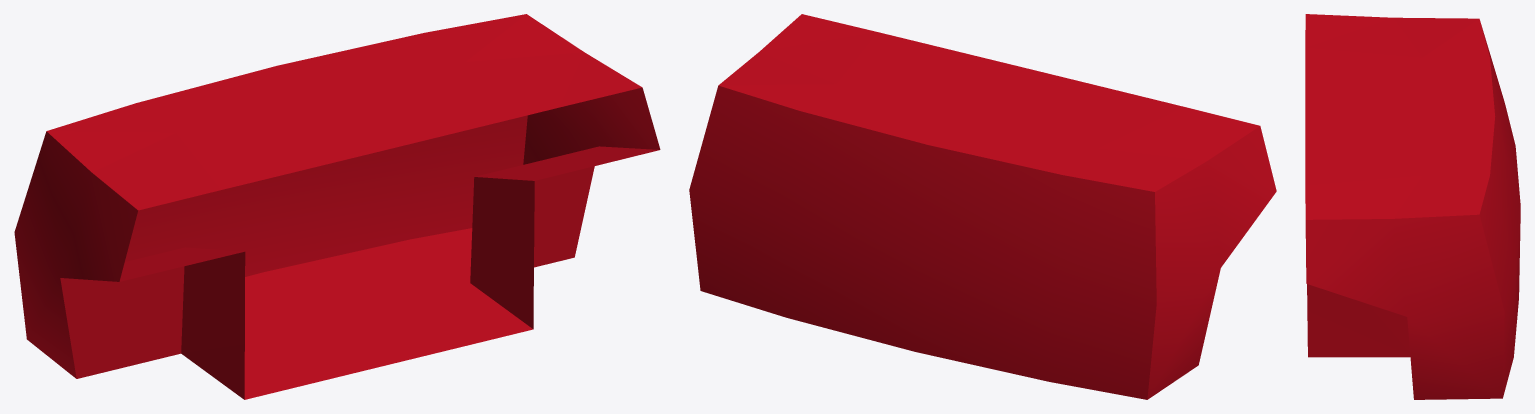
The model's file is template_car_pickup_rear.dae.
3 renders of one model, left to right at view 1: azimuth 30°, elevation 25°; view 2: azimuth 150°, elevation 25°; view 3: azimuth 270°, elevation 25°, orthographic. The views are drawn at different scales.
Parts seen in each view (by area): view 1: template_car_pickup_rear; view 2: template_car_pickup_rear; view 3: template_car_pickup_rear.
Boxes of the visible parts, x1=… form: template_car_pickup_rear: x1=14, y1=14, x2=660, y2=399; template_car_pickup_rear: x1=689, y1=14, x2=1276, y2=399; template_car_pickup_rear: x1=1305, y1=14, x2=1520, y2=399.
Size of the model in its own units: 1.71 by 0.7049 by 0.6552.
